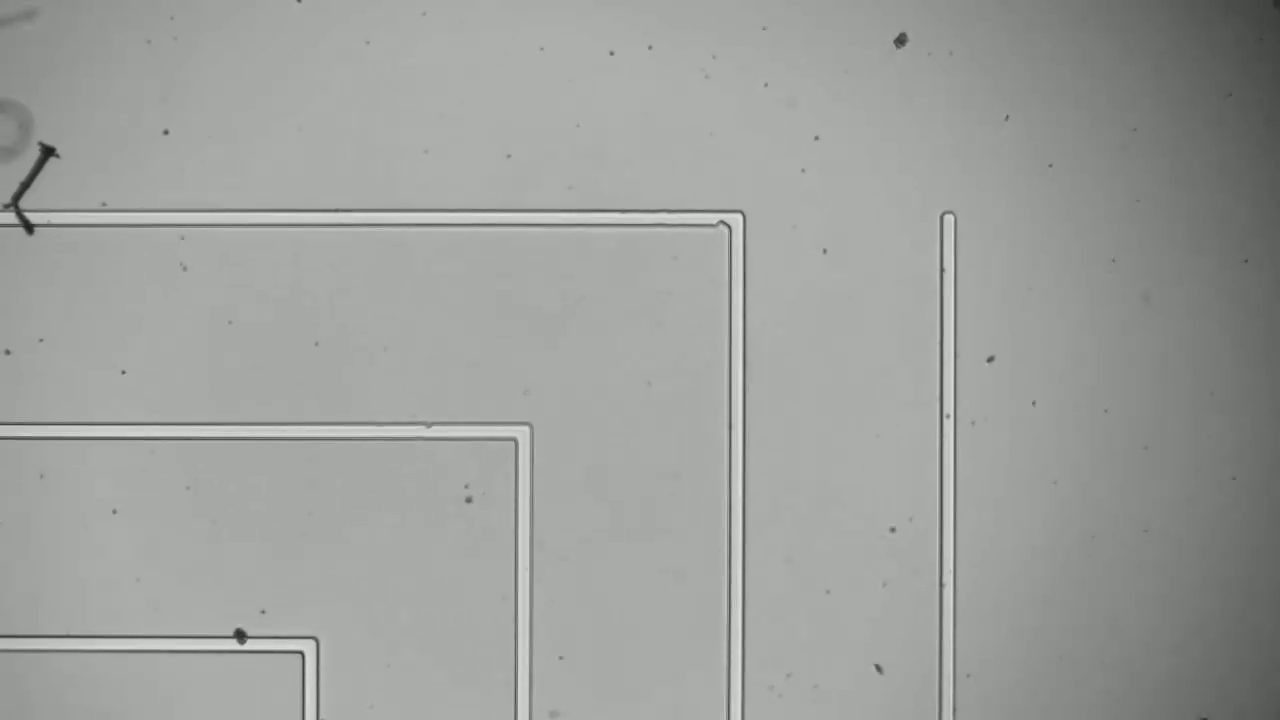edge_bite: (412, 413, 449, 446), (704, 202, 736, 233)
stains_enbedded: (225, 621, 264, 660)
